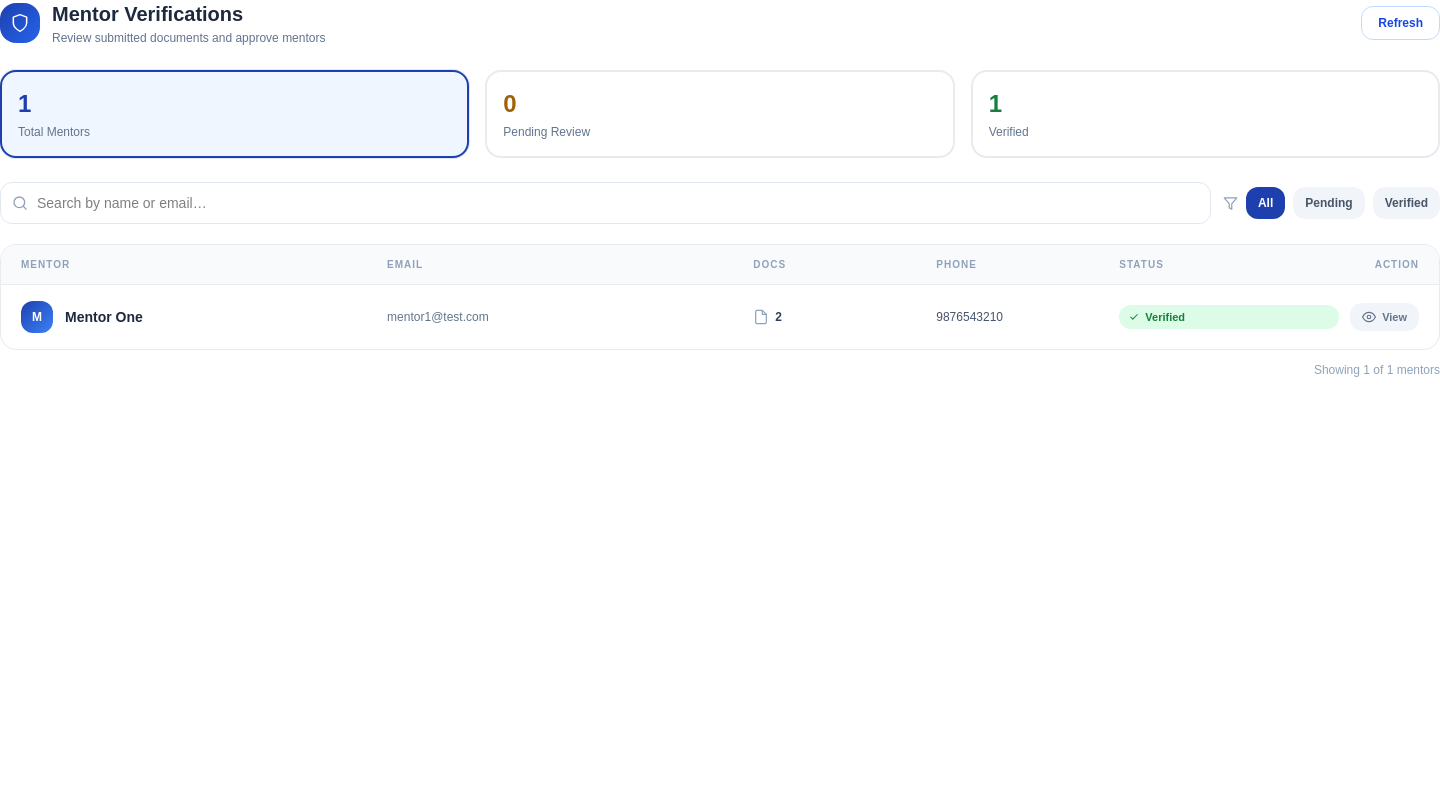
Scenario: AdminVerifications › DetailDrawer › shows 'Already Verified' and no button for verified mentors
This screenshot has width=1440, height=810.
Click the button "View" at (1385, 317), box [1350,303,1419,331]
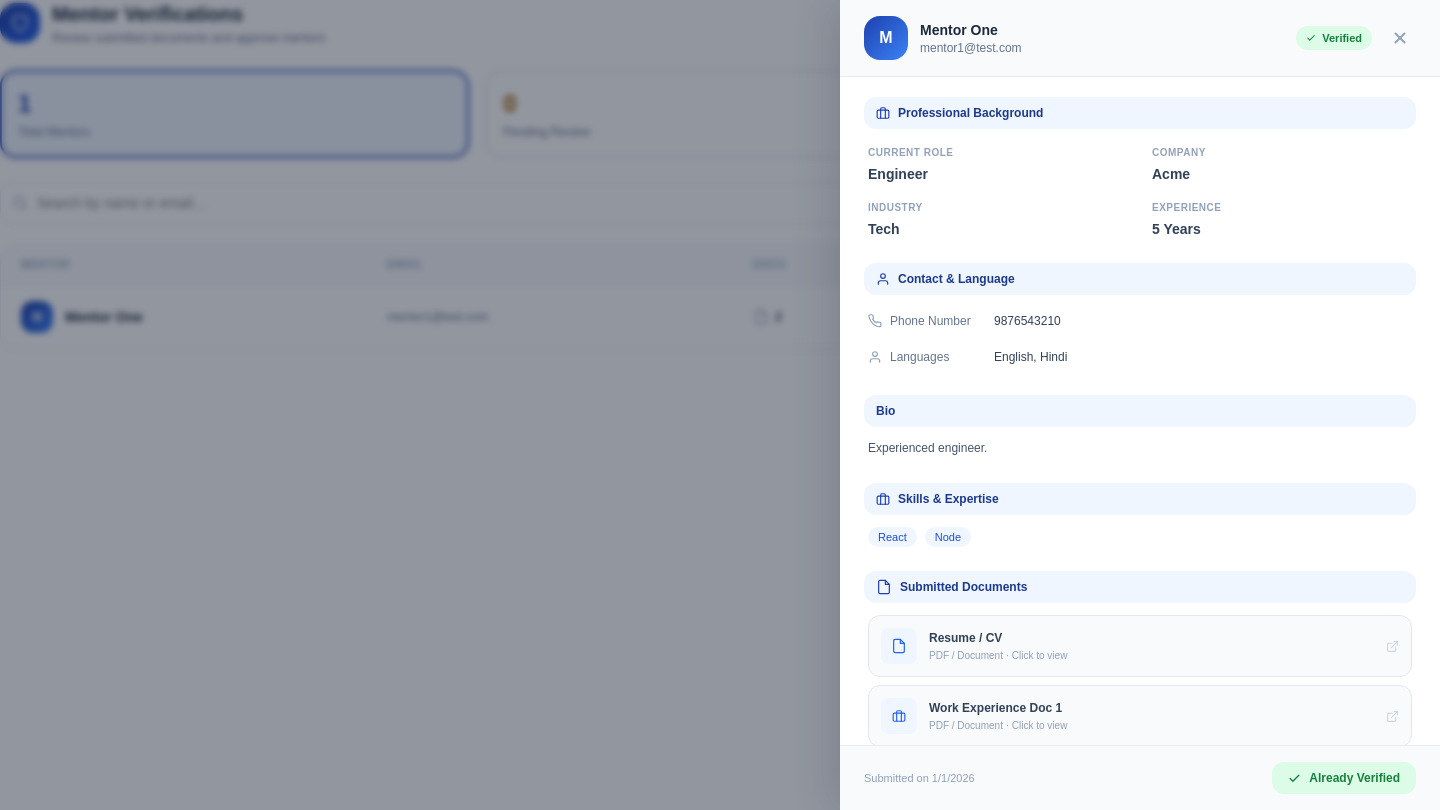
Expected: the text "Already Verified" is shown, [1272,762,1416,794]
